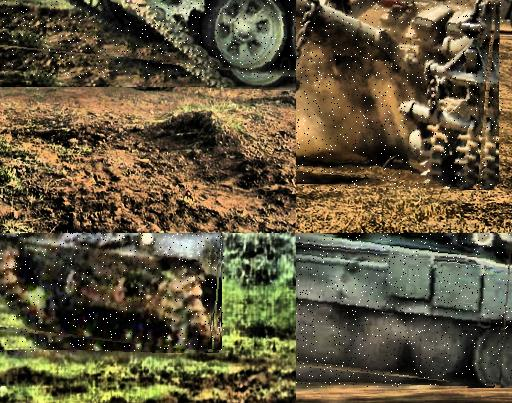tanks: (297, 1, 497, 190), (297, 234, 512, 388), (1, 234, 224, 353), (56, 1, 297, 79)
